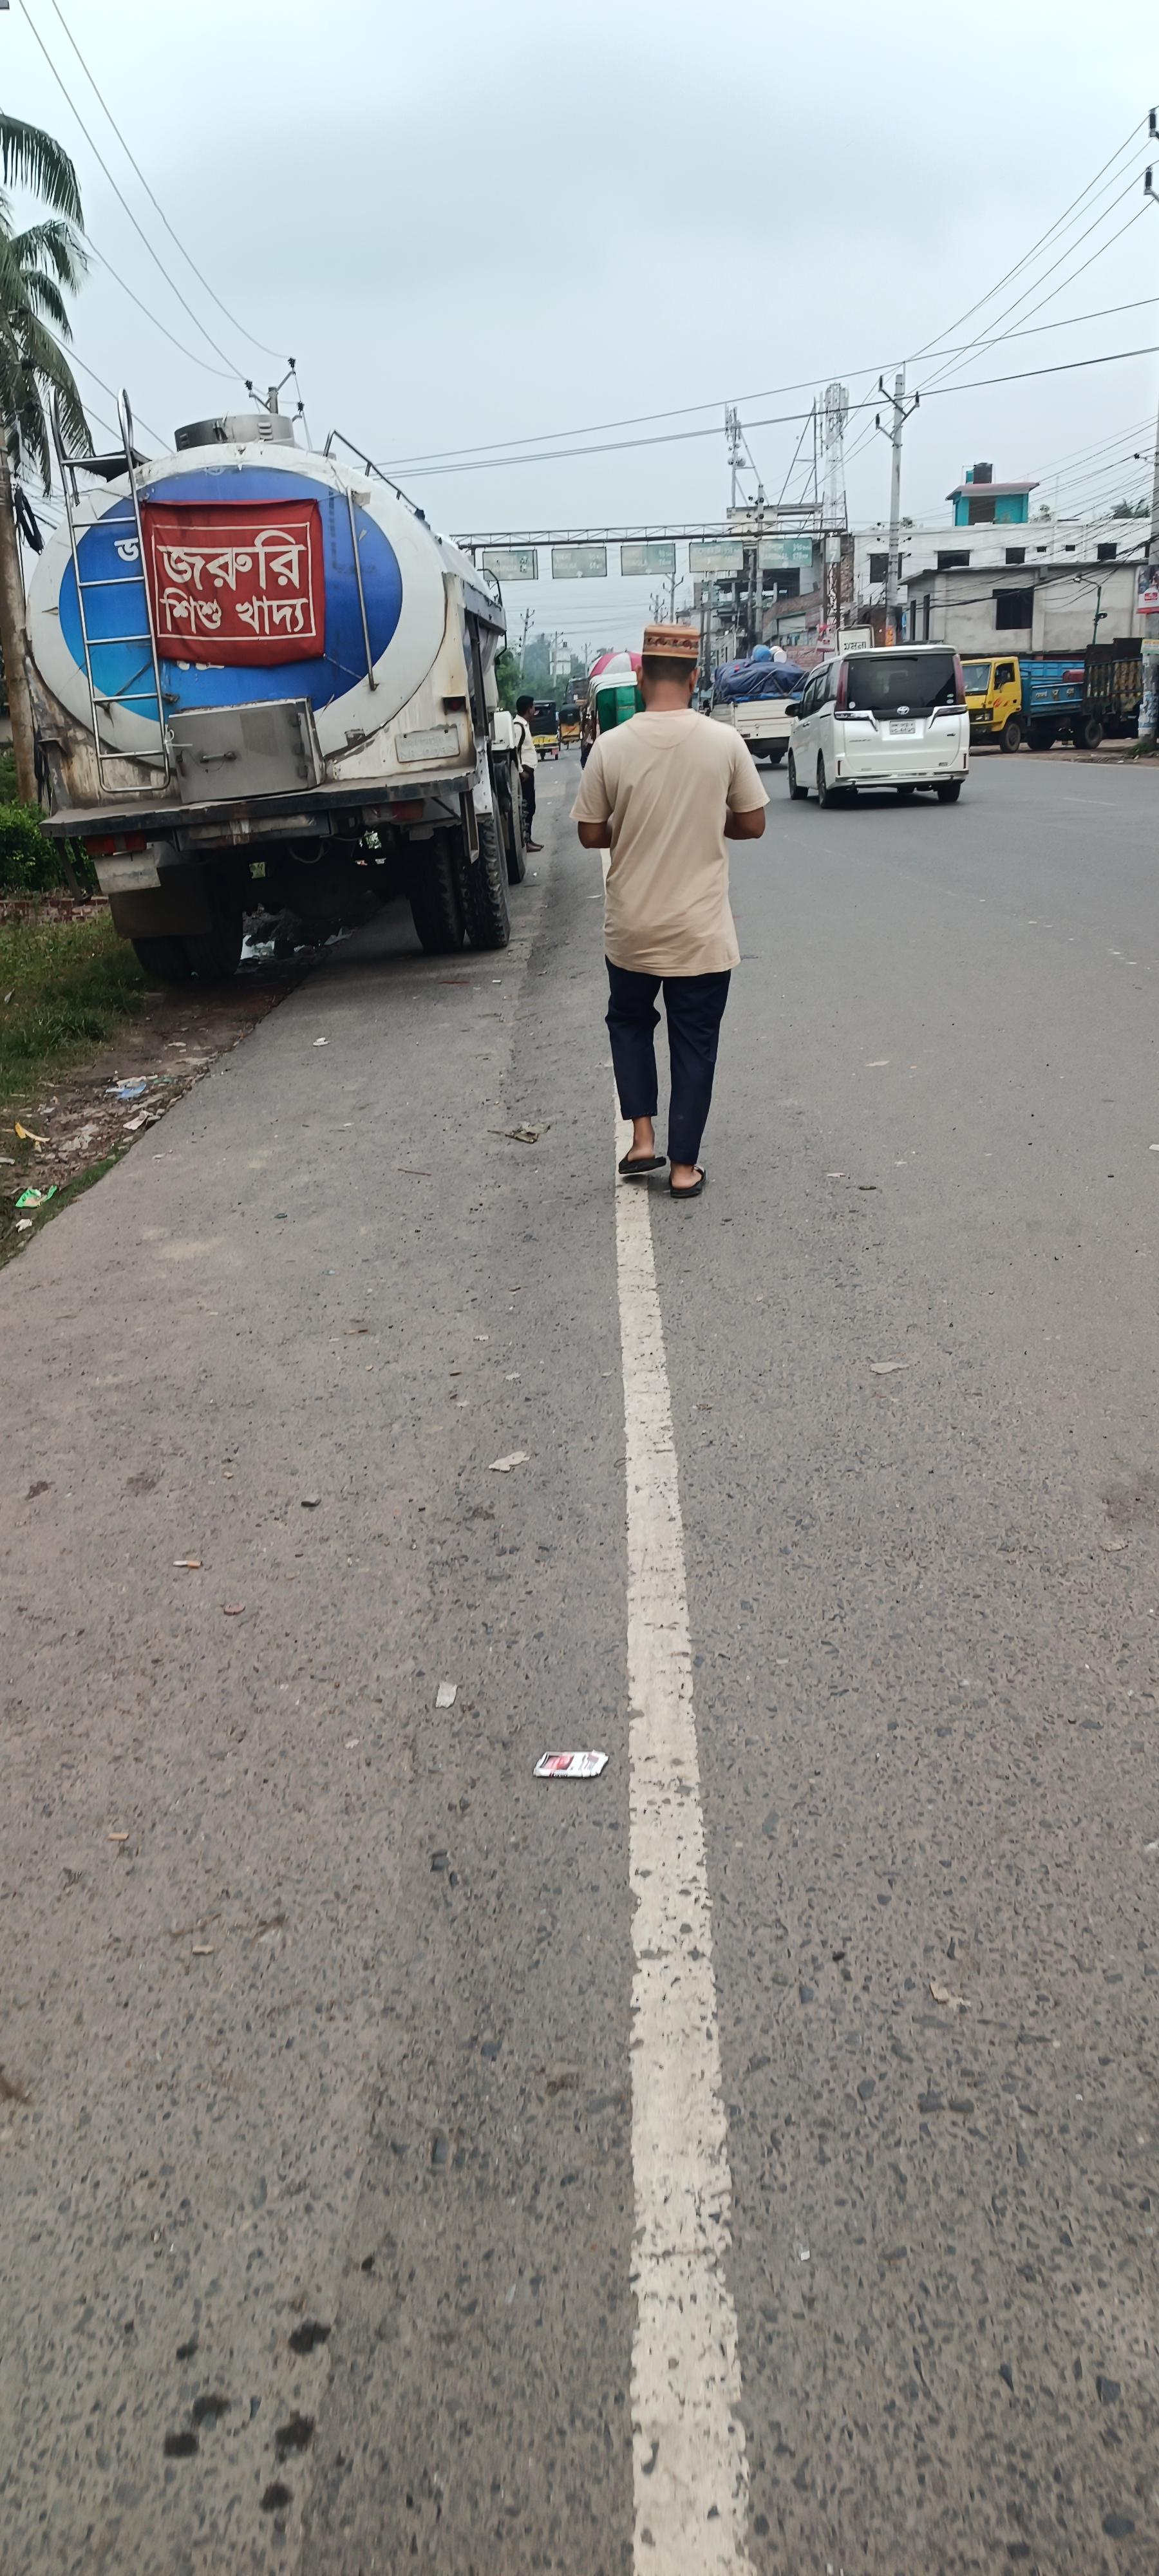Garbage-bin: (571, 626, 770, 1198), (512, 695, 545, 853)
Traffic-cone: (18, 394, 530, 984), (799, 611, 1051, 830)
